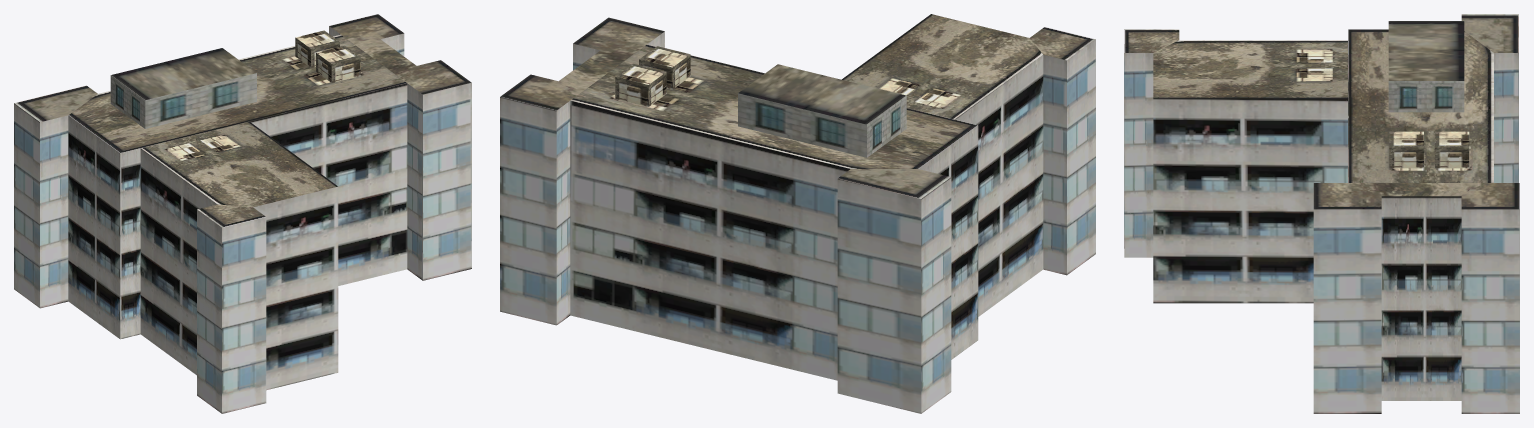
Rendered from Civilian - Commercial Building - Hotel 01 - CBHotel01.glb.
The picture shows the model from 3 angles, left to right: view 1: azimuth 30°, elevation 25°; view 2: azimuth 150°, elevation 25°; view 3: azimuth 270°, elevation 25°; orthographic projection. The views are drawn at different scales.
Visible parts, largest first — view 1: CBHOTEL01; view 2: CBHOTEL01; view 3: CBHOTEL01.
Part boxes in pixels (x1,y1,x2,y2): CBHOTEL01: (14, 14, 471, 413); CBHOTEL01: (500, 14, 1095, 413); CBHOTEL01: (1124, 14, 1519, 413).
Size of the model in its own units: 81.93 by 46.17 by 70.14.
1 material, 1 textured.
